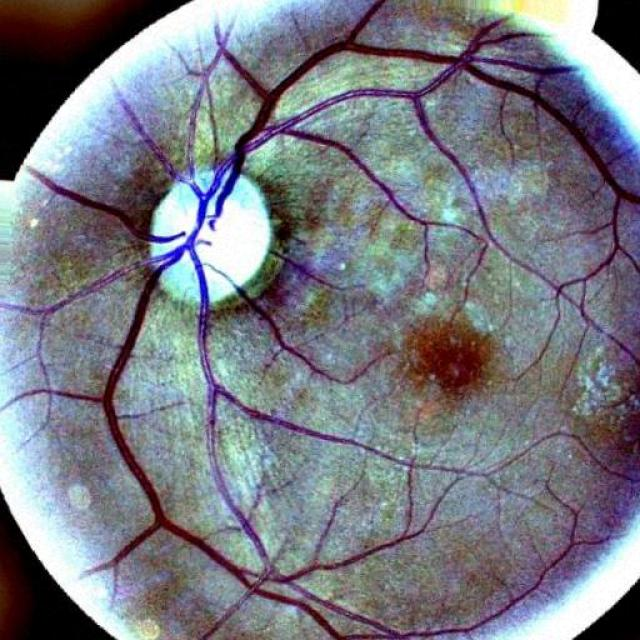Macula: (394, 314, 509, 406)
Nerves: (99, 245, 445, 630), (184, 239, 535, 557), (182, 28, 628, 208)
Optic Disk: (130, 151, 292, 306)
